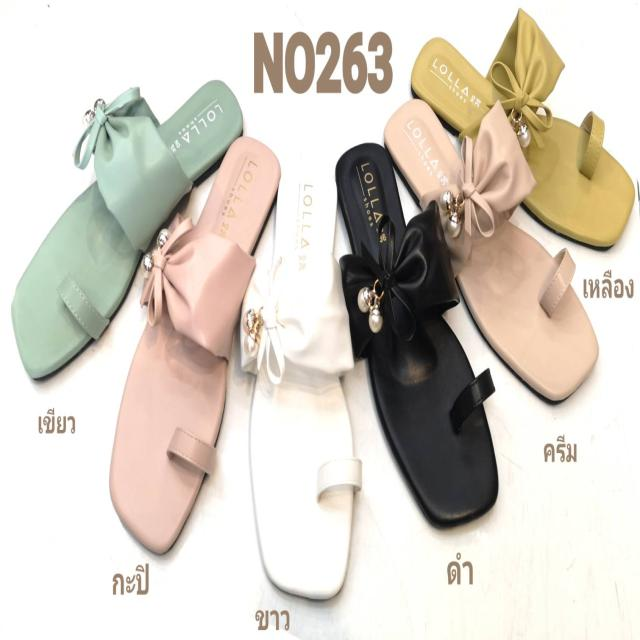black: (334, 140, 500, 531)
cream: (383, 94, 597, 406)
green: (11, 76, 244, 370)
kapi: (110, 142, 280, 546)
white: (248, 163, 356, 603)
yellow: (410, 36, 635, 249)
